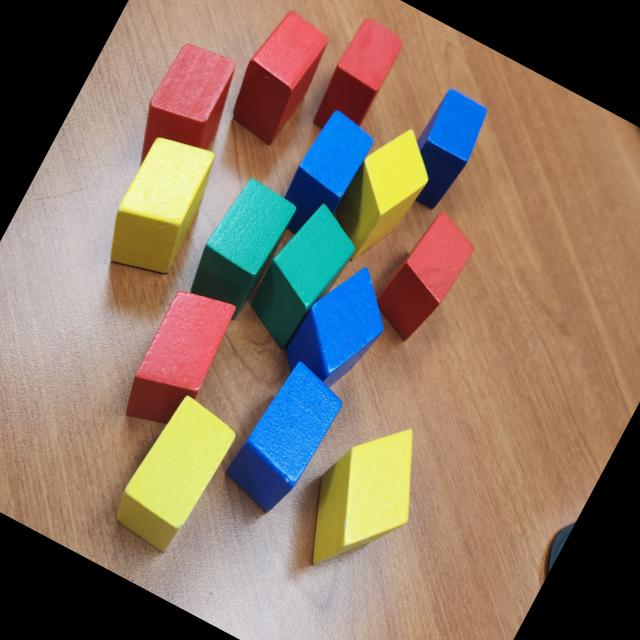blue: (215, 352, 351, 520), (273, 250, 407, 406), (268, 106, 380, 249), (389, 85, 495, 216)
green: (234, 196, 366, 358), (178, 172, 299, 323)
red: (112, 276, 242, 441), (119, 34, 250, 190), (218, 3, 340, 152), (362, 202, 483, 351), (306, 14, 408, 145)
yellow: (283, 402, 446, 592), (105, 390, 241, 558), (92, 124, 230, 289), (322, 114, 446, 268)
